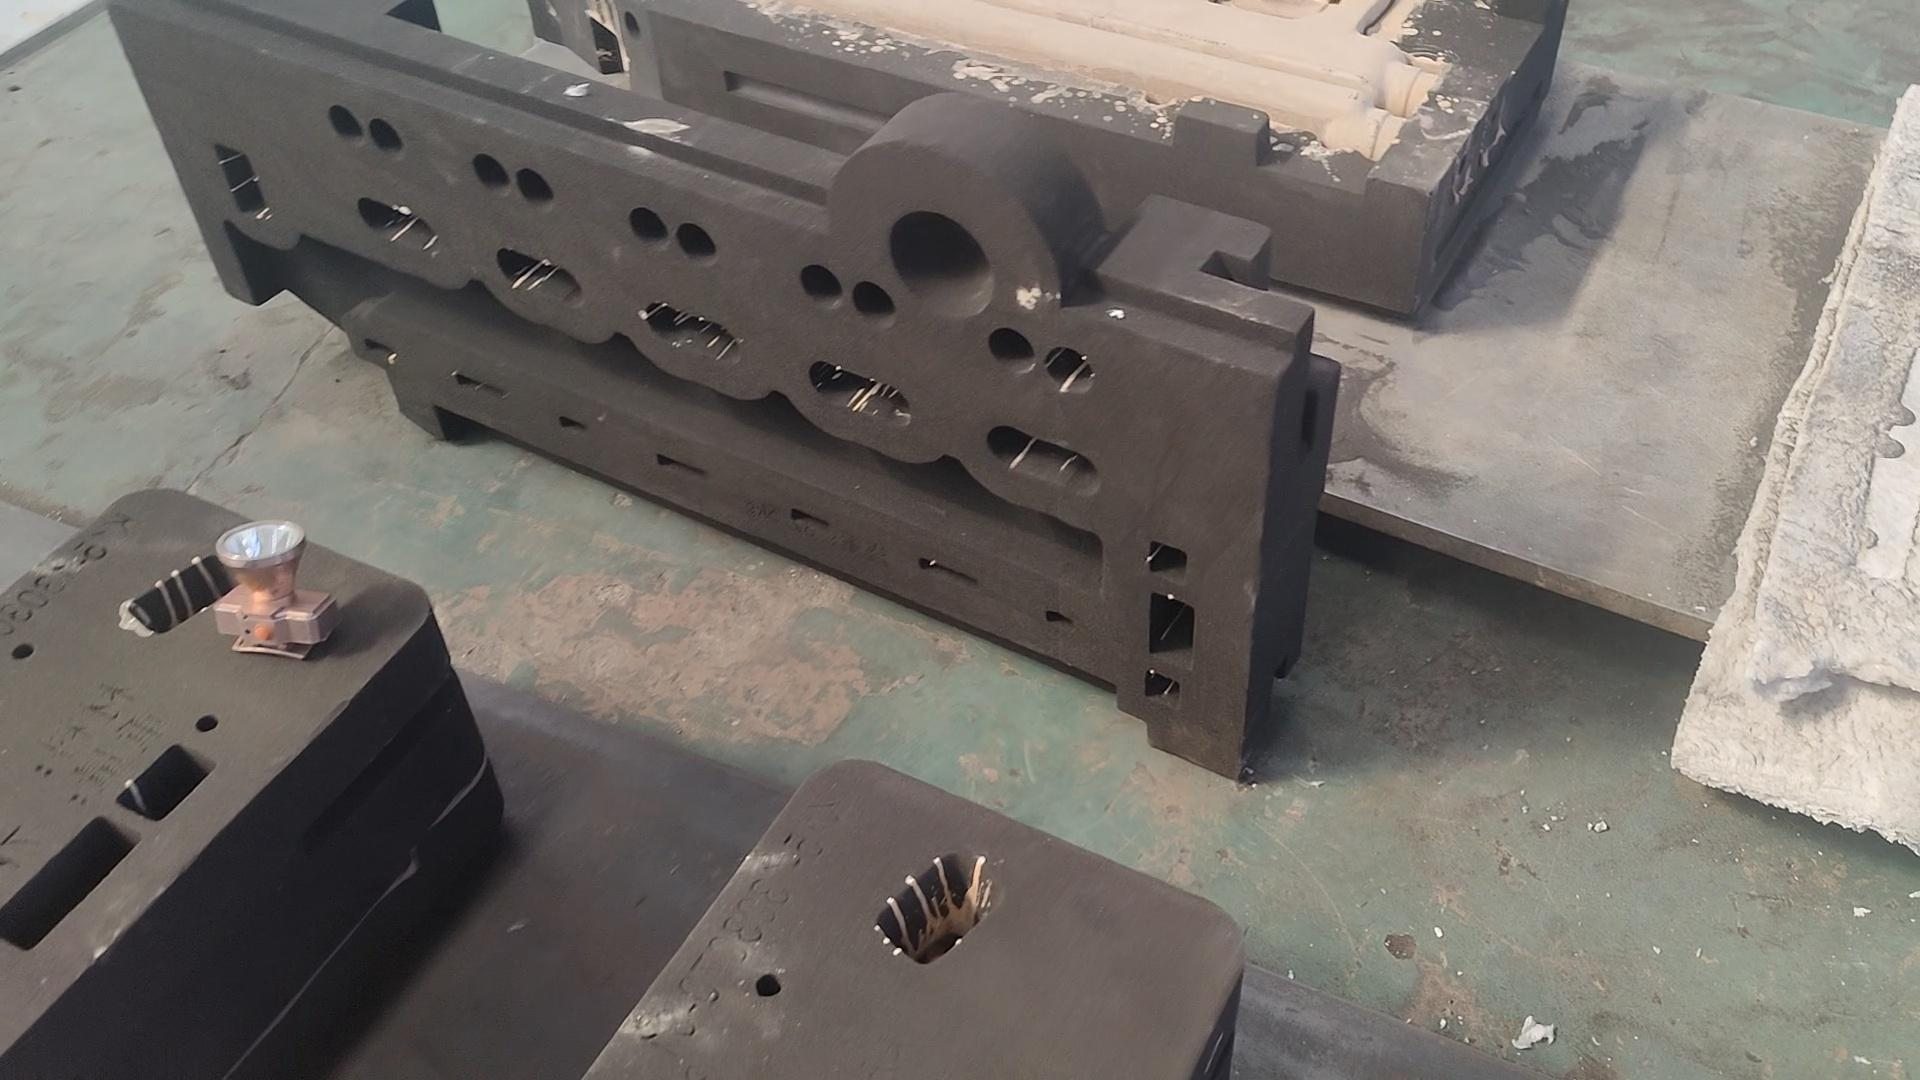pouring hole: (890, 210, 993, 319)
